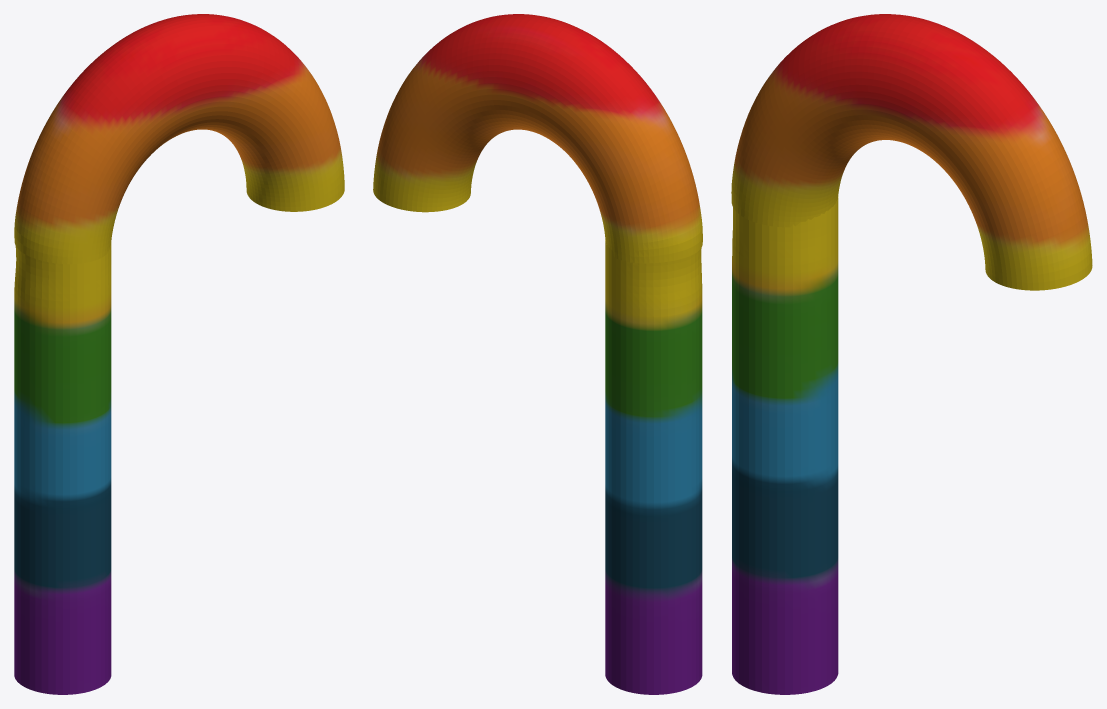
Rendered from decoration_5_3.glb.
3 views of the same model, side by side, from view 1: azimuth 30°, elevation 25°; view 2: azimuth 150°, elevation 25°; view 3: azimuth 330°, elevation 25° (orthographic). The views are drawn at different scales.
Parts seen in each view (by area): view 1: Cylinder; view 2: Cylinder; view 3: Cylinder.
Boxes of the visible parts, <box> form: Cylinder: <box>14,14,344,694</box>; Cylinder: <box>373,14,702,694</box>; Cylinder: <box>731,14,1092,694</box>.
Bounding box in the file's own units: 0.4697 × 0.8856 × 0.1301.
